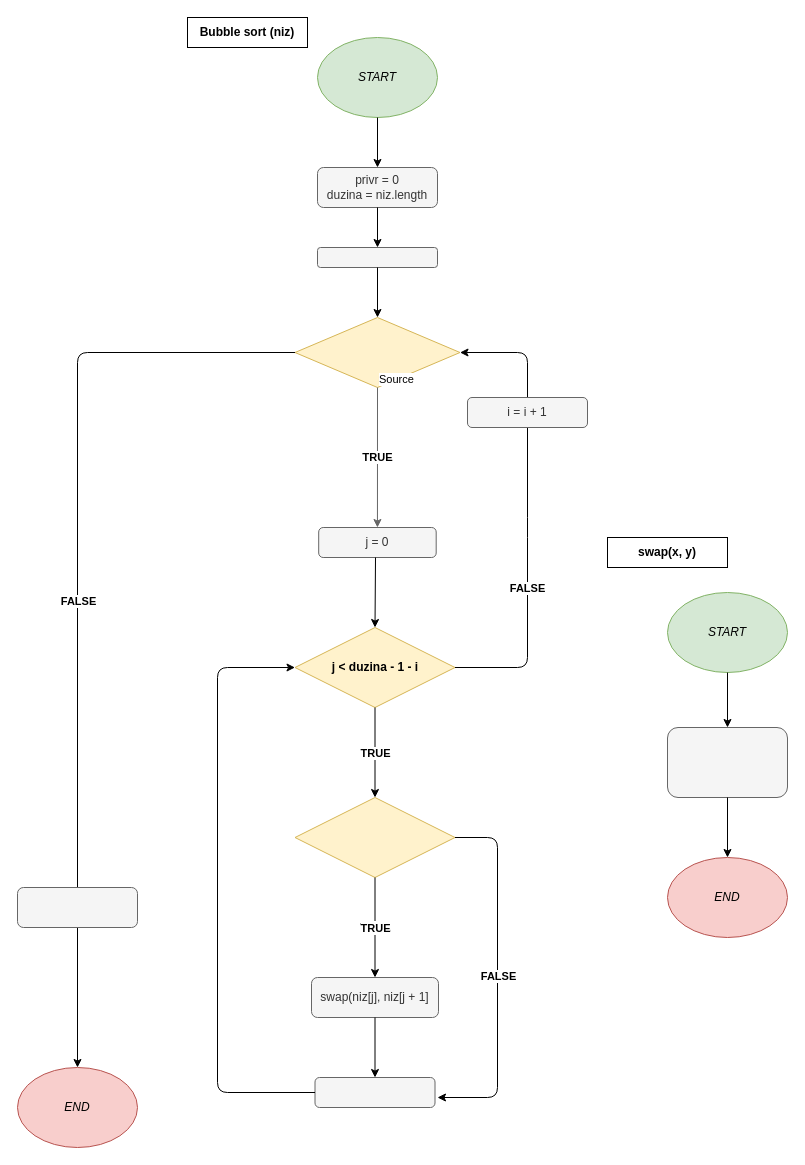
This 805x1165 diagram has some shape labels left out. The shapes that lost their labels are listed below. From the top down, each one's centre as x and y in pixels, then its label:
point (377, 257): i = 0
point (377, 352): i < duzina - 1
point (727, 762): privr = x x = y y = privr
point (374, 837): niz[j] < niz[j + 1]
point (77, 907): return niz
point (374, 1092): j = j + 1
